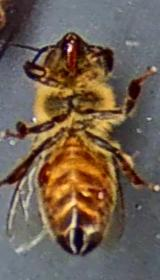varroa_mite: (84, 174, 113, 210), (34, 156, 56, 190)
